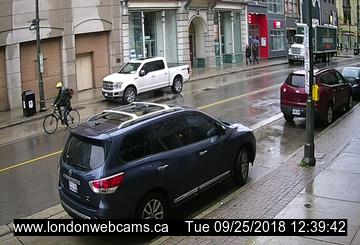Car: (59, 105, 261, 234), (100, 54, 194, 104), (281, 67, 355, 125), (288, 22, 341, 64)
person: (251, 39, 261, 64), (244, 42, 252, 66)
riding bicycle: (38, 78, 82, 134)
